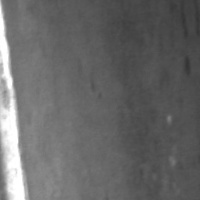scratches: (0, 0, 33, 199)
